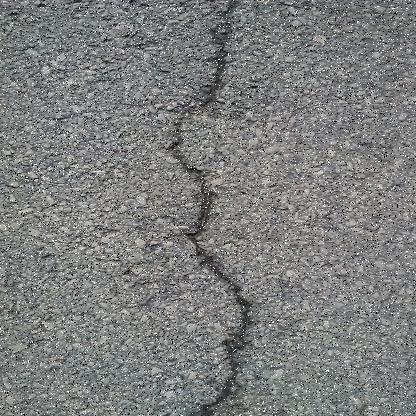Cracks: (146, 0, 278, 415)
